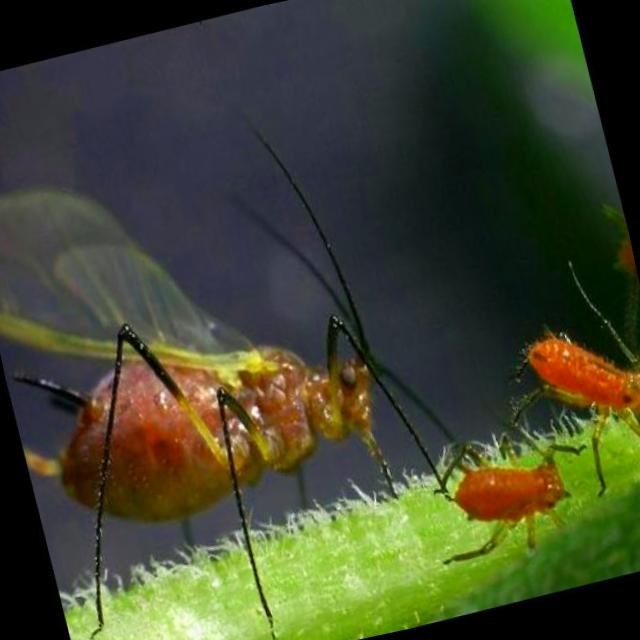aphid: (1, 199, 456, 628), (501, 291, 640, 485)
